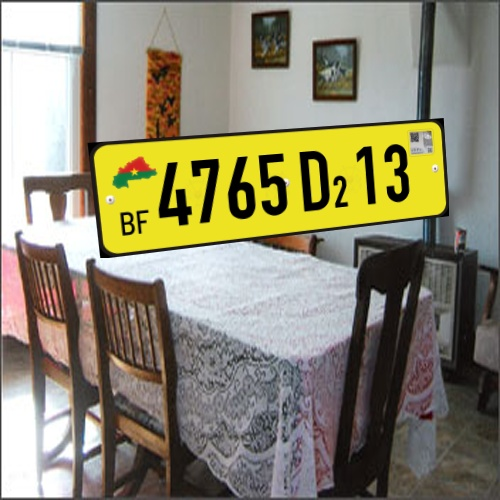plate: (78, 119, 460, 267)
